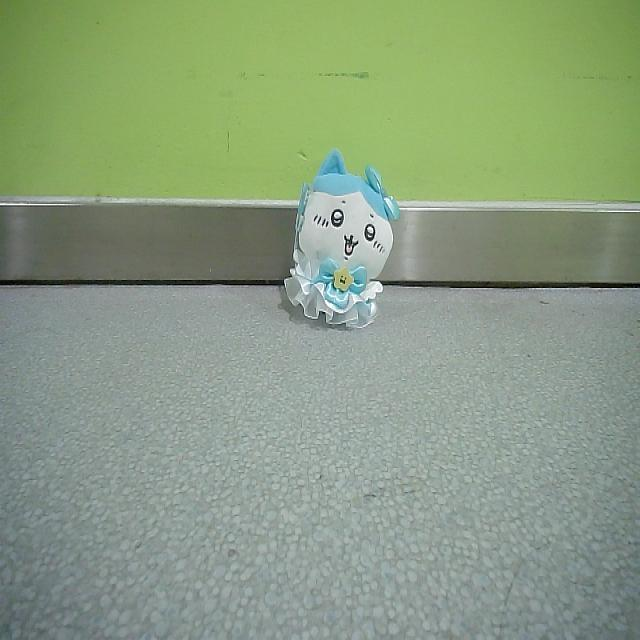xiaoba: (280, 148, 401, 333)
